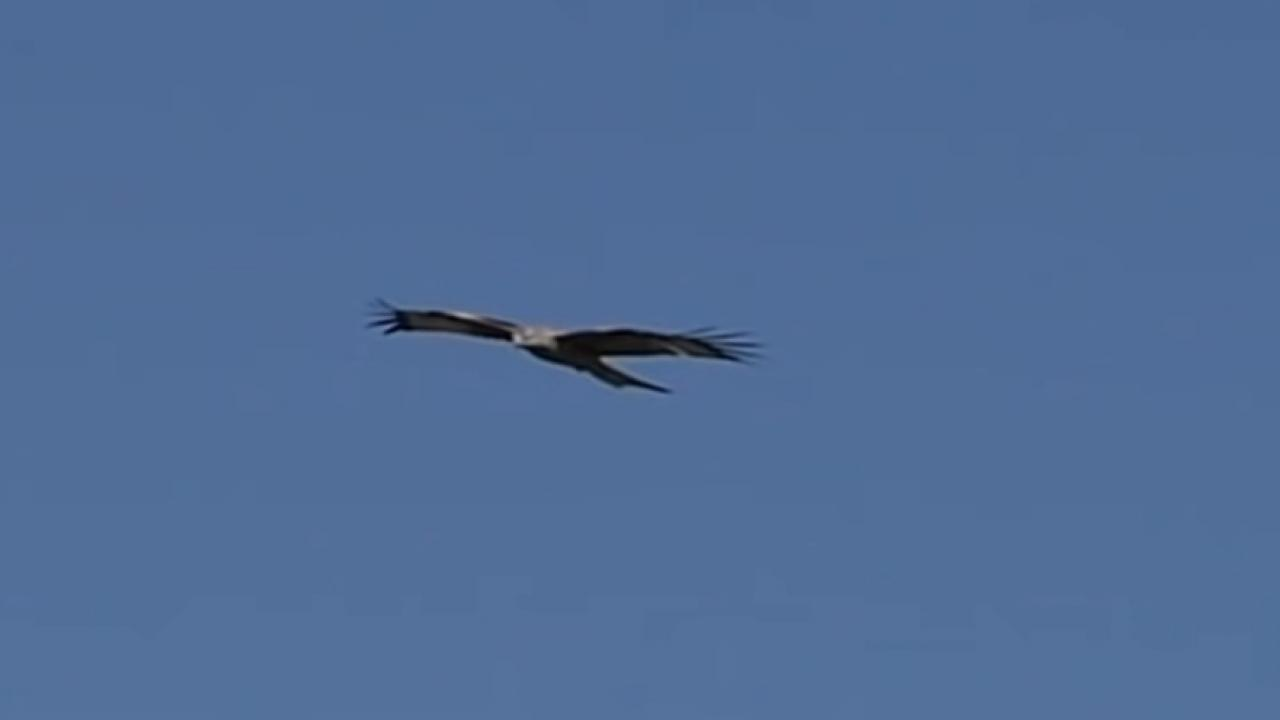Bird: (354, 281, 786, 413)
